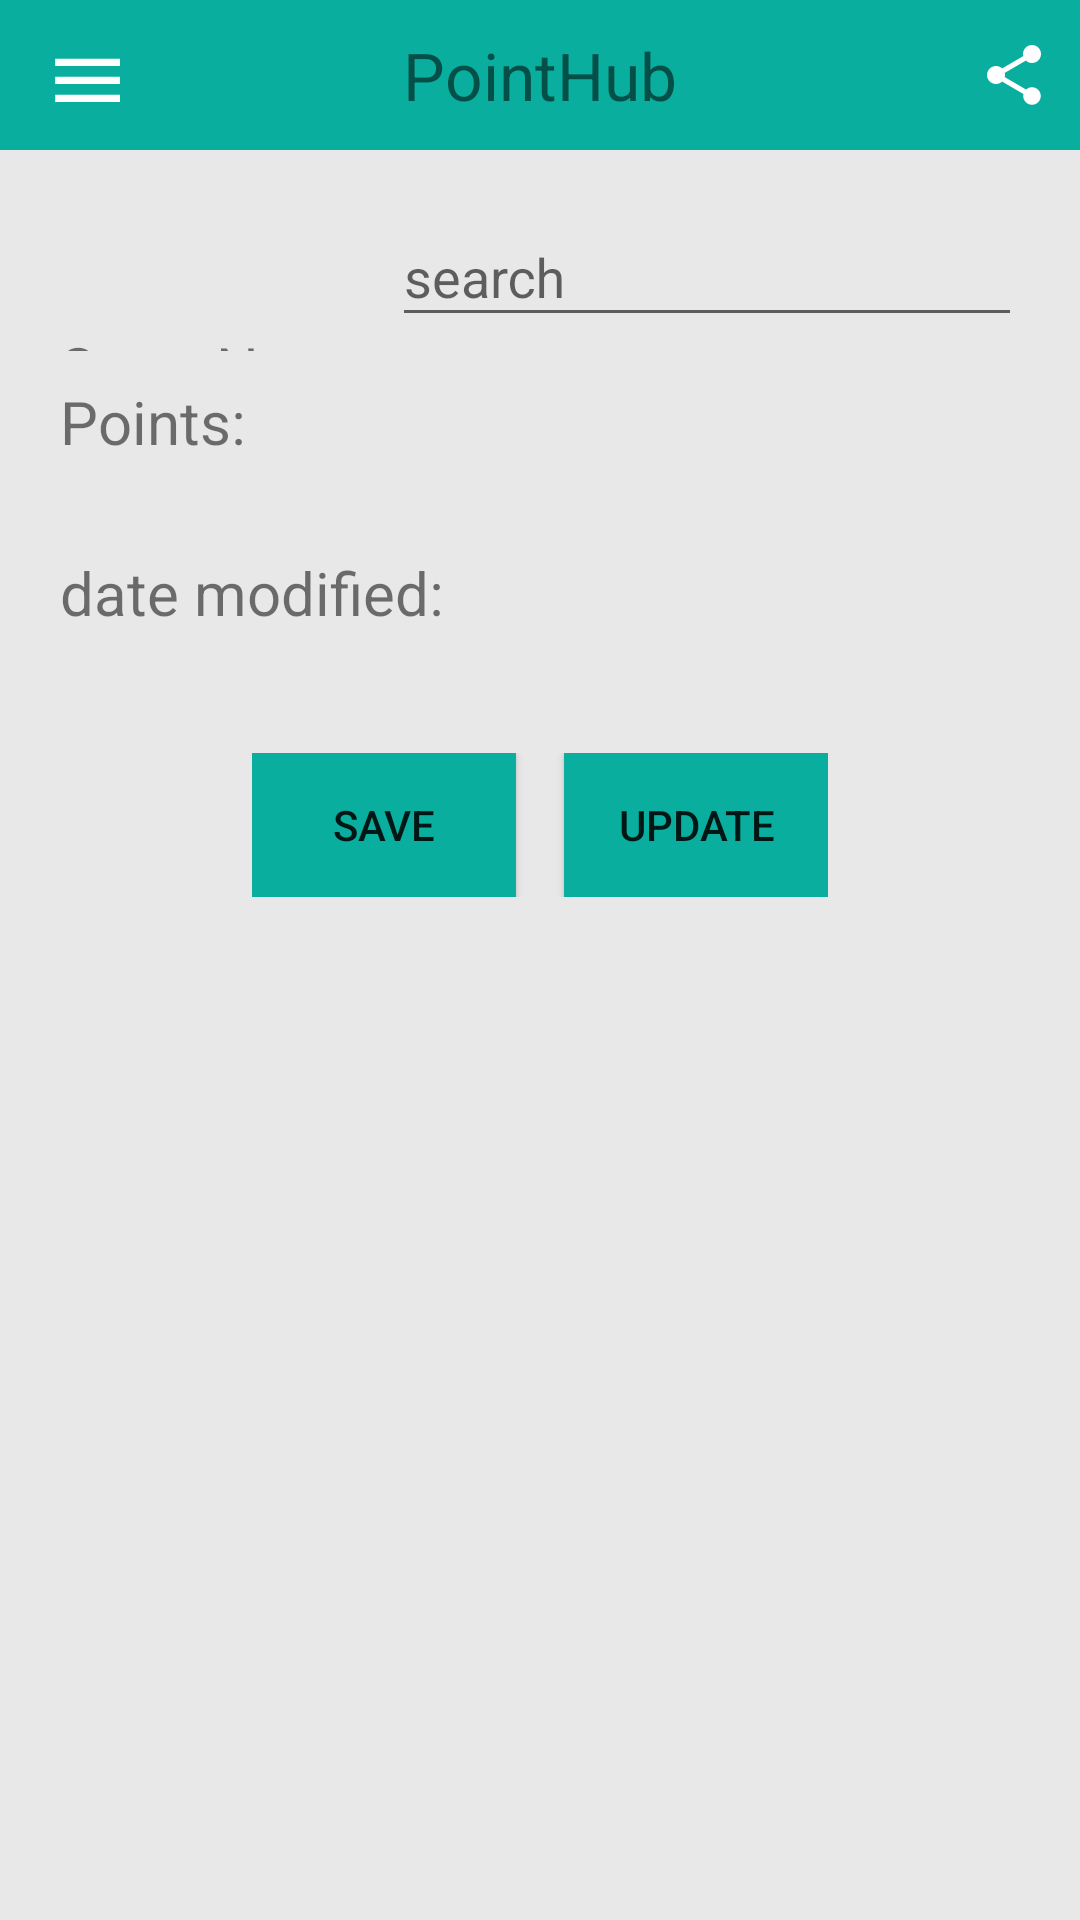

Icon bounding boxes for this 1080x1920 phone screenshot, format (x1, y1, x2, y2):
share: (987, 45, 1041, 105)
